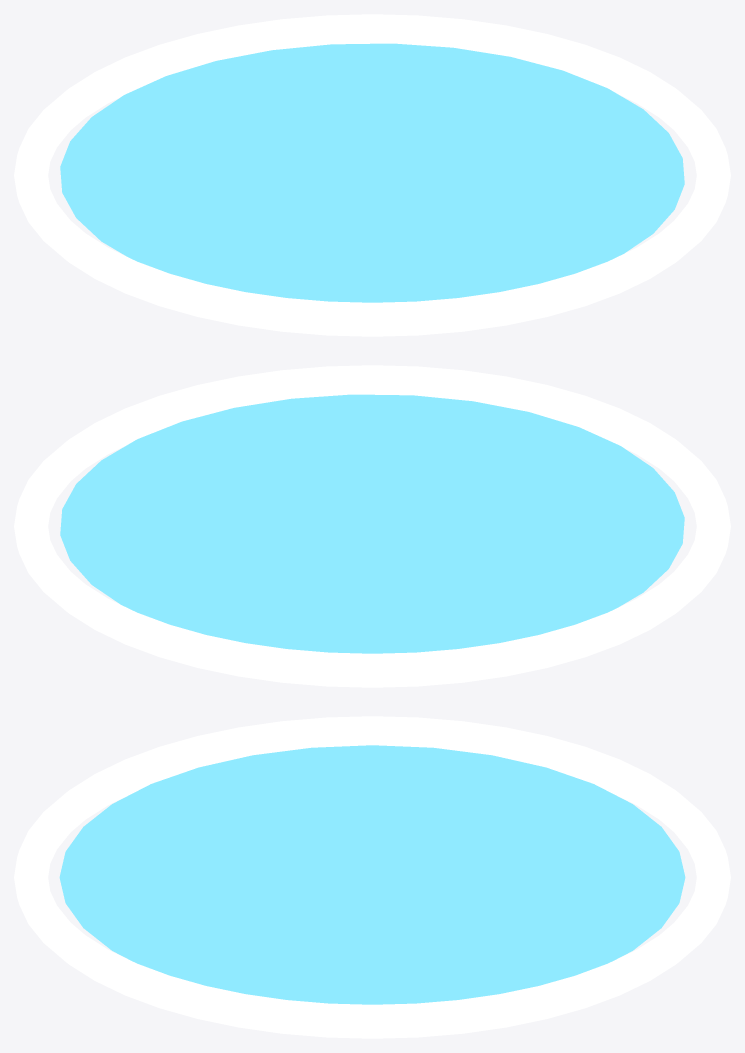
Rendered from quantum_tunnel_ring.fbx.
3 views of the same model, one above another, from view 1: azimuth 30°, elevation 25°; view 2: azimuth 150°, elevation 25°; view 3: azimuth 270°, elevation 25° (orthographic).
Parts seen in each view (by area): view 1: Circle, TunnelRing; view 2: Circle, TunnelRing; view 3: Circle, TunnelRing.
Part boxes in pixels (x1,y1,x2,y2): Circle: [60, 43, 684, 302]; TunnelRing: [14, 14, 730, 336]; Circle: [60, 394, 684, 653]; TunnelRing: [14, 365, 730, 687]; Circle: [59, 745, 685, 1004]; TunnelRing: [14, 716, 730, 1038].
Bounding box in the file's own units: 1260 × 60 × 1260.
